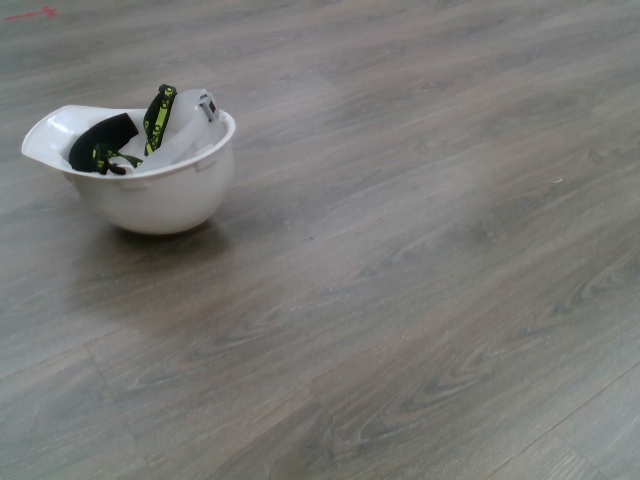helmet: (17, 80, 247, 243)
